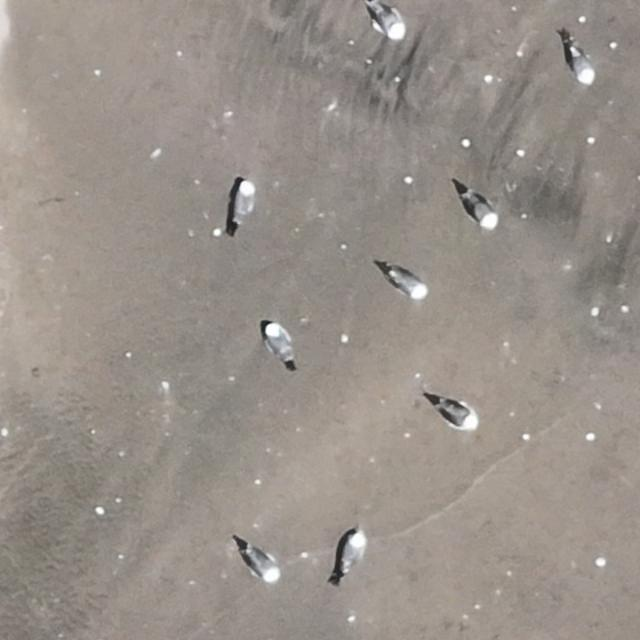umineko: (439, 402, 476, 428), (249, 548, 279, 580), (374, 7, 404, 39), (392, 271, 427, 297), (267, 326, 292, 362), (233, 180, 253, 222), (469, 195, 496, 226), (342, 534, 364, 572), (572, 49, 594, 83)
